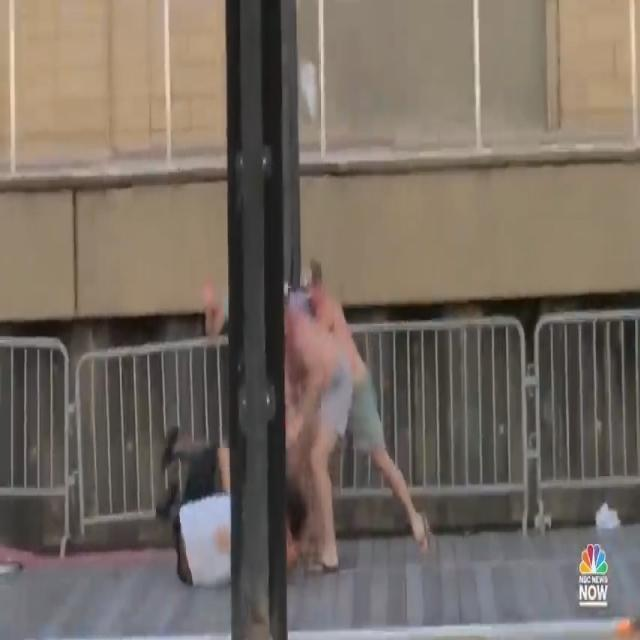fight: (151, 236, 442, 588)
